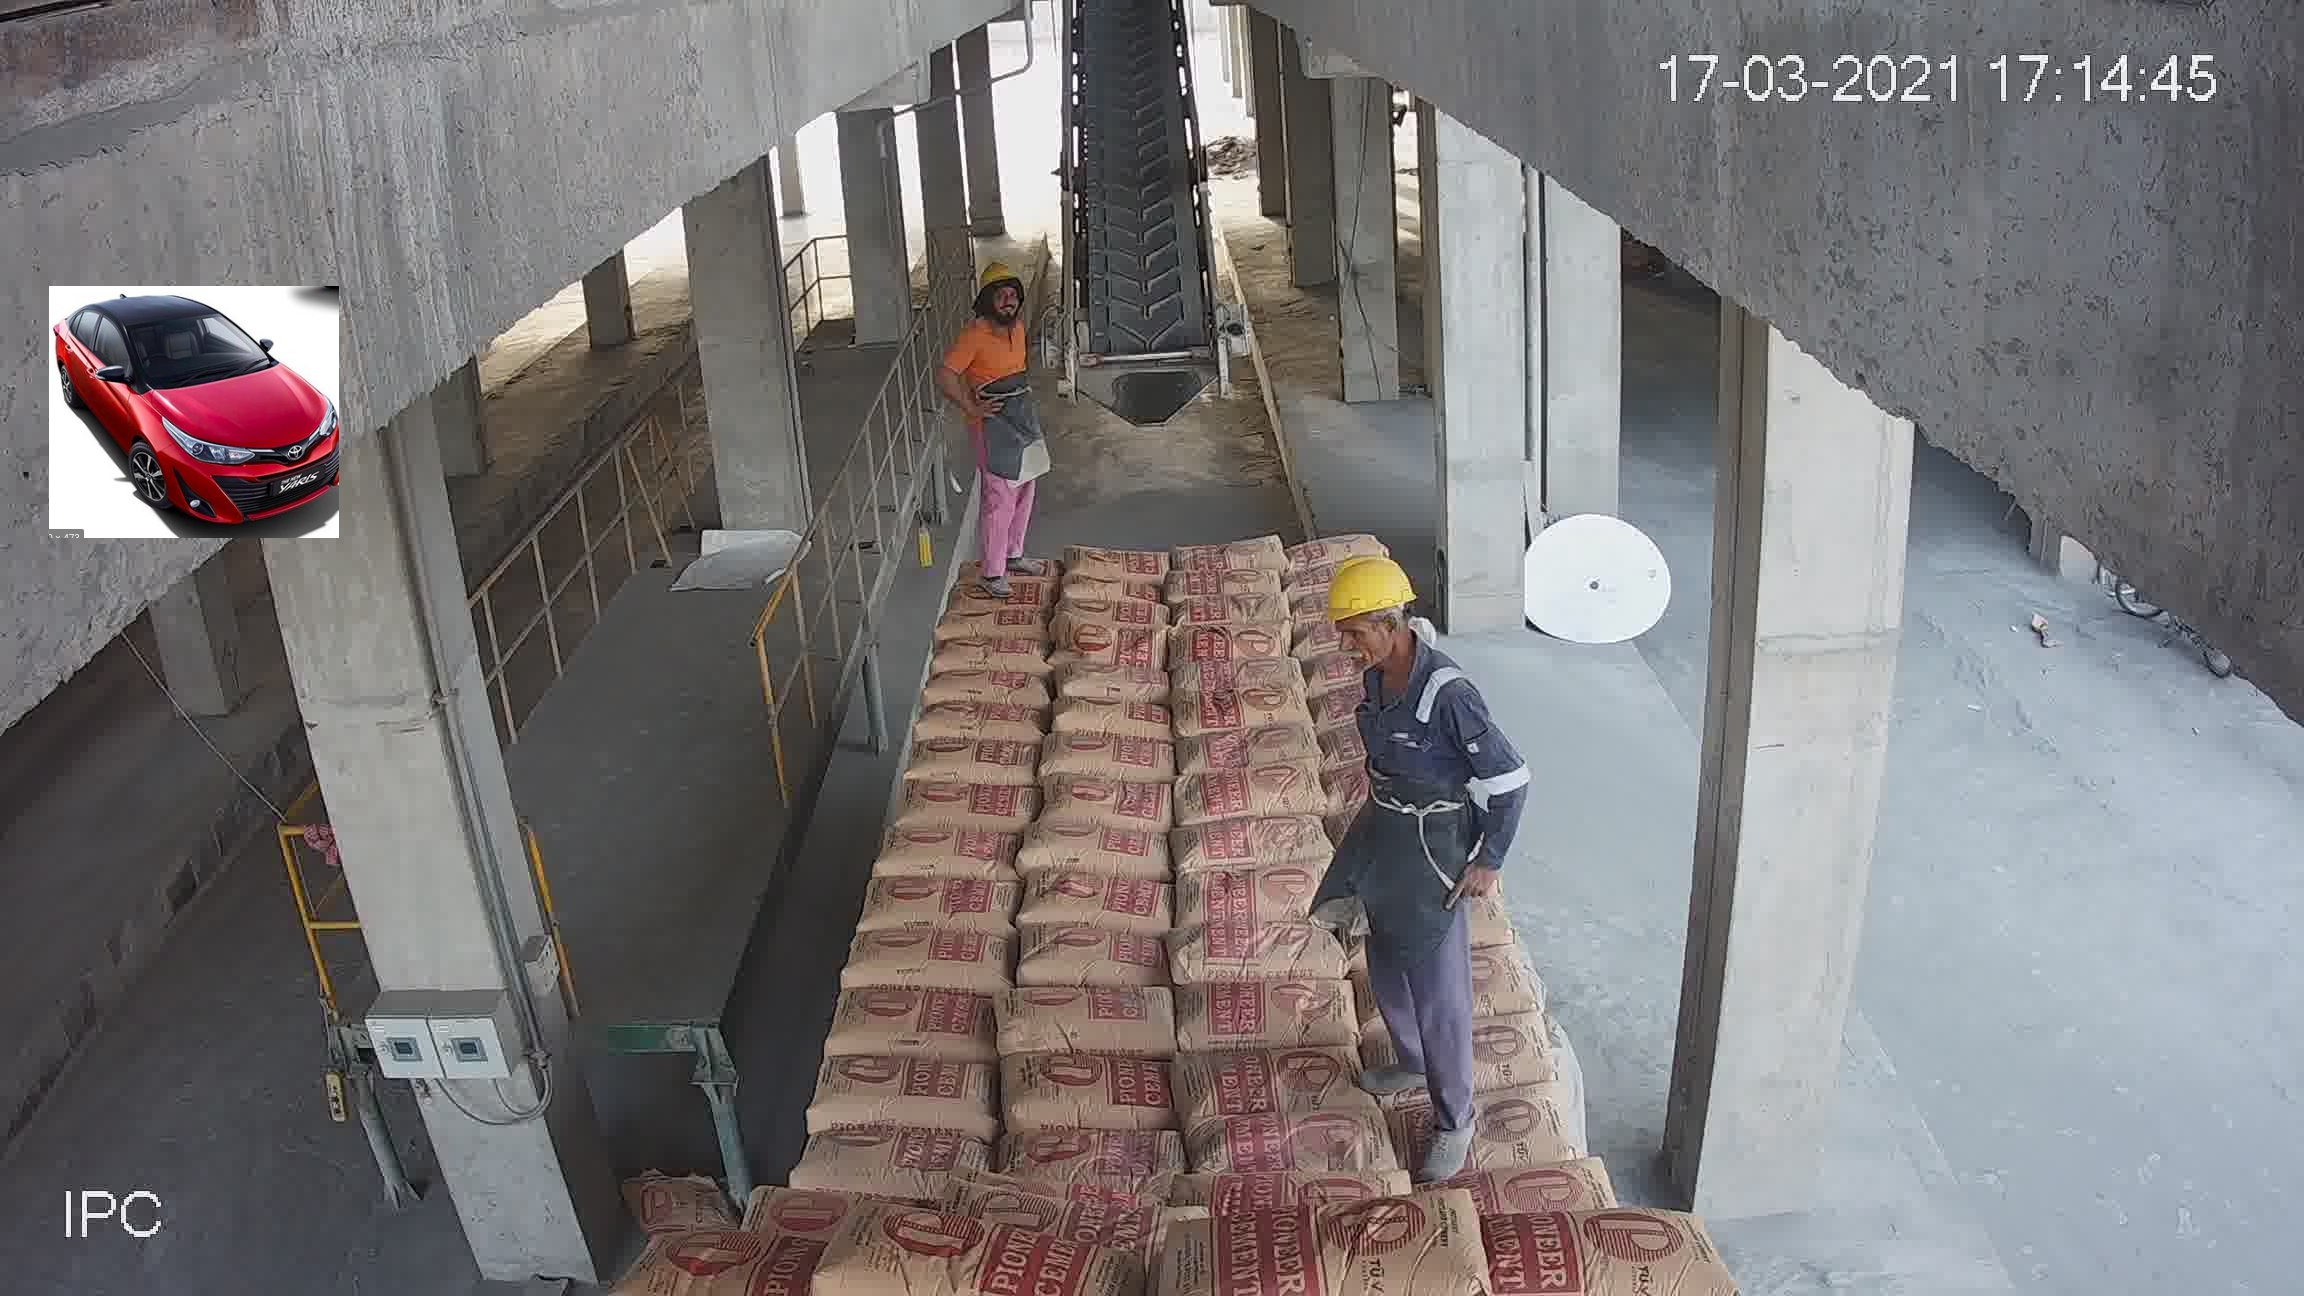bag_h: (1195, 1204, 1506, 1296), (798, 1214, 1128, 1294), (1483, 1204, 1742, 1287), (1192, 1074, 1400, 1165), (1176, 972, 1377, 1052), (807, 1057, 1006, 1136), (1185, 1101, 1375, 1182), (1005, 1049, 1185, 1130), (617, 1225, 826, 1293), (1000, 986, 1187, 1062), (828, 983, 1005, 1062), (1408, 1097, 1586, 1173), (786, 1128, 999, 1190), (855, 872, 1029, 946), (994, 1122, 1185, 1188), (837, 927, 1013, 994), (1169, 861, 1329, 934), (1179, 926, 1348, 991), (1021, 813, 1169, 886), (1443, 1163, 1614, 1225), (1177, 810, 1329, 877), (1013, 932, 1174, 991), (1024, 873, 1182, 932), (1184, 758, 1326, 823), (1043, 772, 1182, 836), (892, 782, 1040, 837), (873, 831, 1021, 883), (1163, 654, 1309, 704), (1177, 722, 1323, 772), (911, 698, 1059, 747), (907, 737, 1041, 790), (1177, 685, 1320, 734), (1062, 612, 1166, 674), (1048, 739, 1176, 786), (911, 663, 1048, 707), (1060, 657, 1176, 707), (927, 638, 1063, 676), (1054, 699, 1165, 745), (1173, 619, 1291, 661), (932, 604, 1051, 646), (1165, 525, 1290, 563), (954, 578, 1062, 620), (1067, 540, 1171, 582), (1168, 568, 1287, 604), (1287, 530, 1391, 571), (1174, 592, 1291, 627), (1052, 573, 1165, 606), (1062, 600, 1173, 633)
belt: (1059, 6, 1211, 405)
